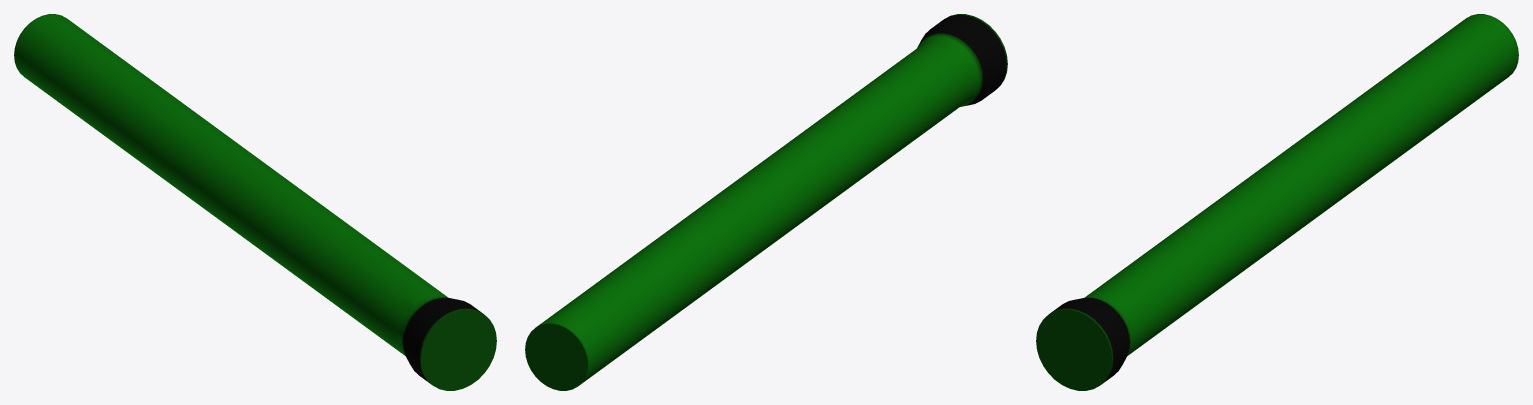
File: launcher.fbx
The picture shows the model from 3 angles, left to right: view 1: azimuth 30°, elevation 25°; view 2: azimuth 150°, elevation 25°; view 3: azimuth 330°, elevation 25°; orthographic projection.
Visible parts, largest first — view 1: launcher; view 2: launcher; view 3: launcher.
Part boxes in pixels (x1,y1,x2,y2): launcher: [14, 14, 496, 390]; launcher: [525, 14, 1007, 390]; launcher: [1036, 14, 1518, 390].
Size of the model in its own units: 0.5315 by 0.5286 by 5.
1 material, 1 textured.
